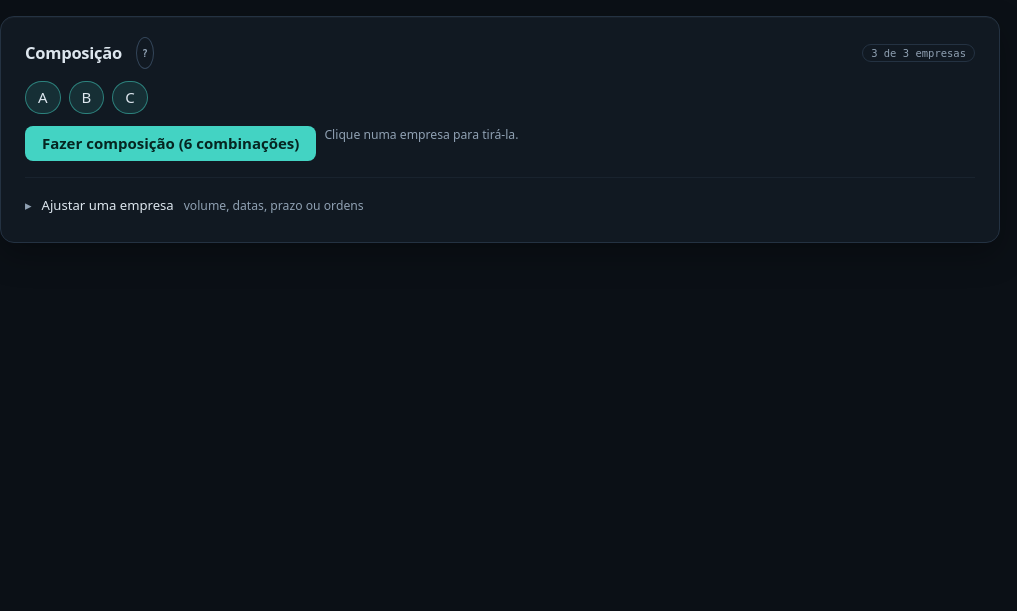
Test: LeverBuilder · composição › mostra a composição primeiro e deixa o ajuste de uma empresa recolhido
expect the heading "Composição" is shown: met, box [25,41,122,65]
expect the field labelled "Volume OUT ×" is not shown: met
Click the button "Ajustar uma empresa volume, datas, prazo ou ordens": (194, 206) [25,190,364,222]
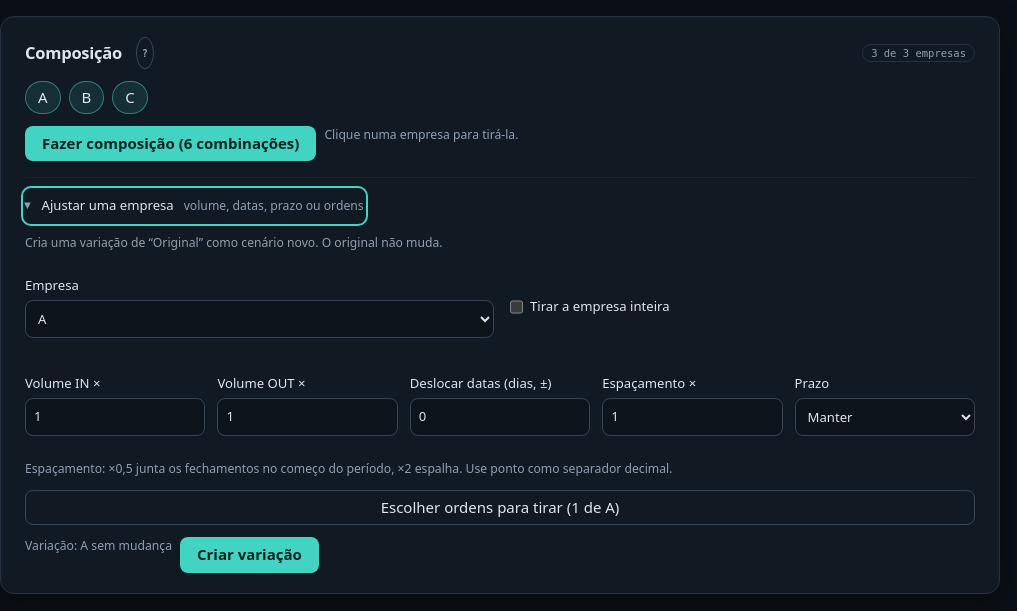
expect the field labelled "Volume OUT ×" is shown: met, box [217,398,398,436]
expect the button "Criar variação" is shown: met, box [180,537,319,573]
